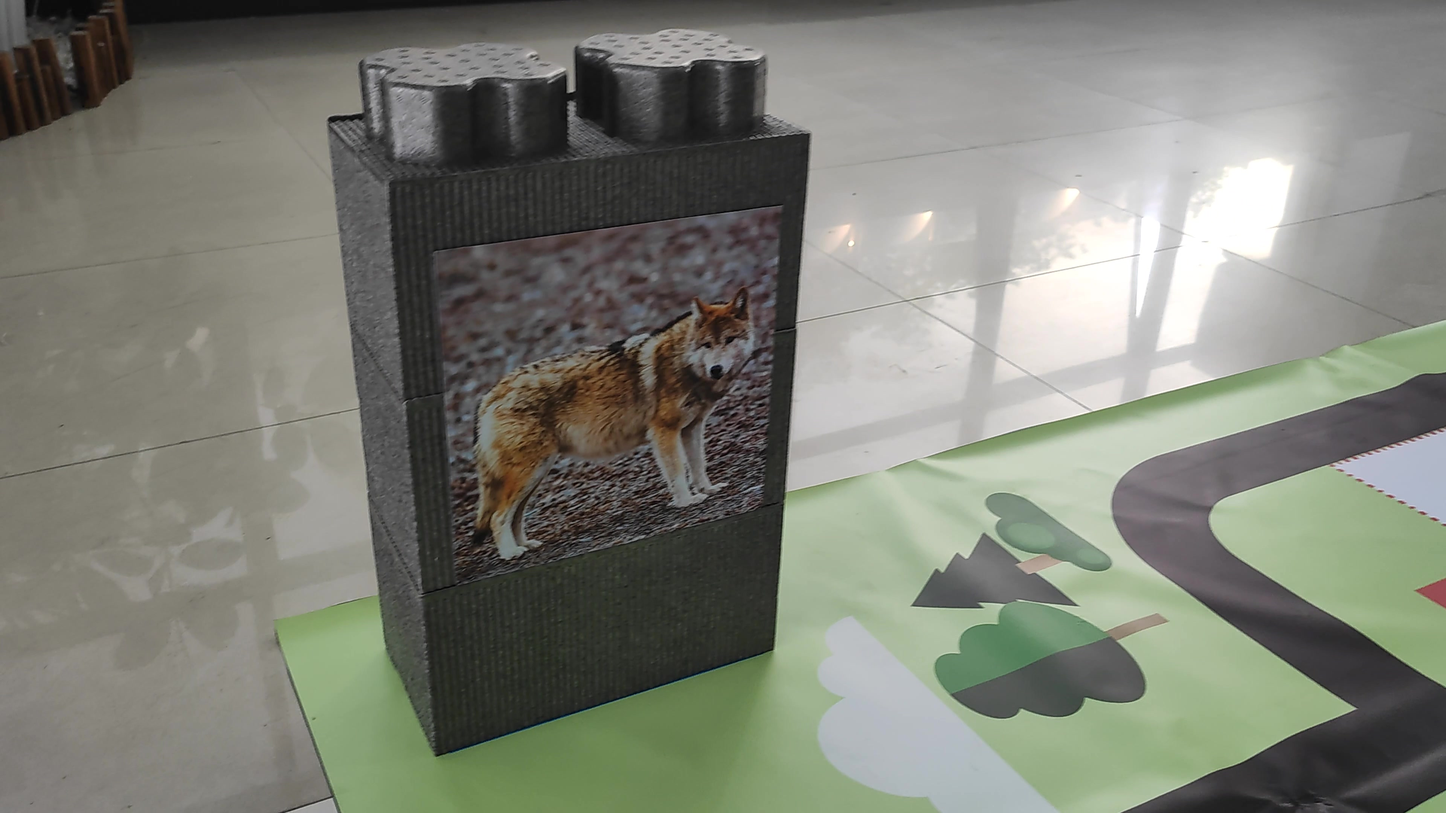wolf: (456, 276, 757, 565)
